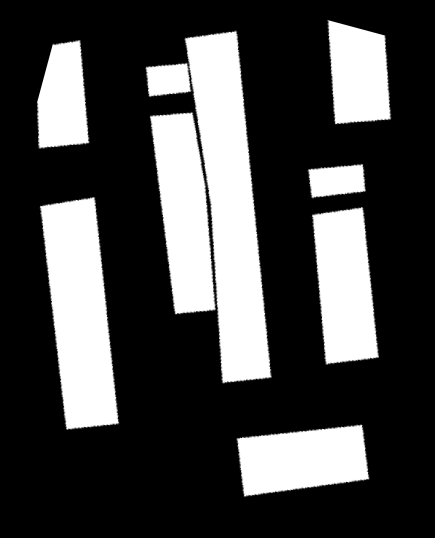parkingspot: (185, 31, 272, 383), (40, 197, 119, 430), (150, 112, 216, 314), (312, 207, 379, 364), (237, 425, 369, 497), (328, 20, 391, 124), (37, 40, 89, 148), (308, 164, 366, 198), (146, 63, 191, 97)
